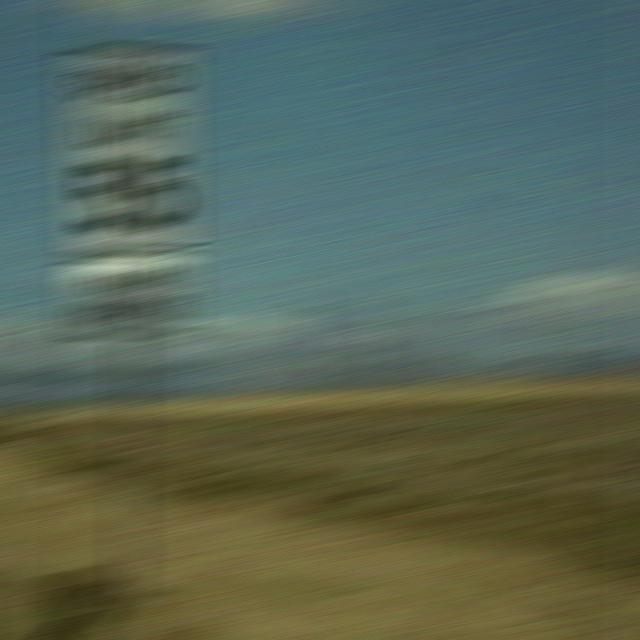speedLimit55: (65, 45, 191, 252)
